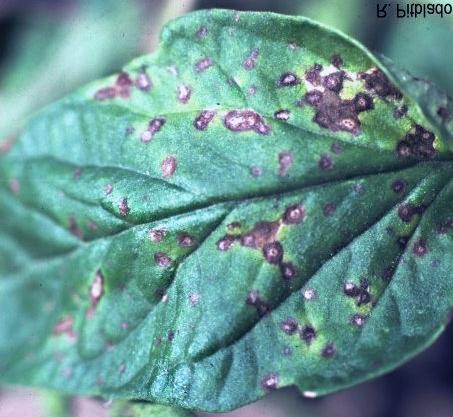Tomato Septoria leaf spot: (1, 10, 446, 403)
